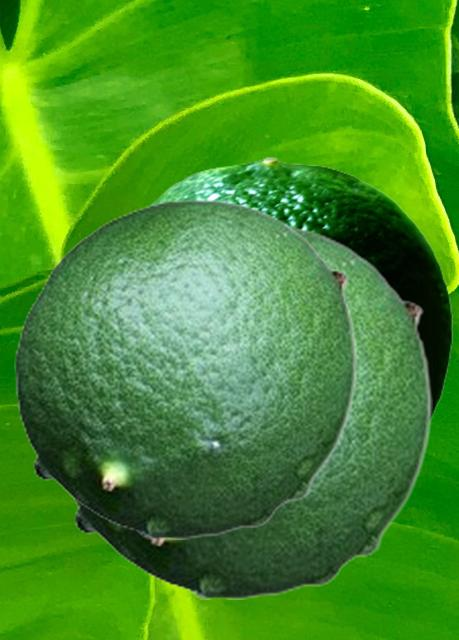calamansi: (66, 222, 431, 598), (14, 198, 356, 538), (148, 156, 451, 422)
